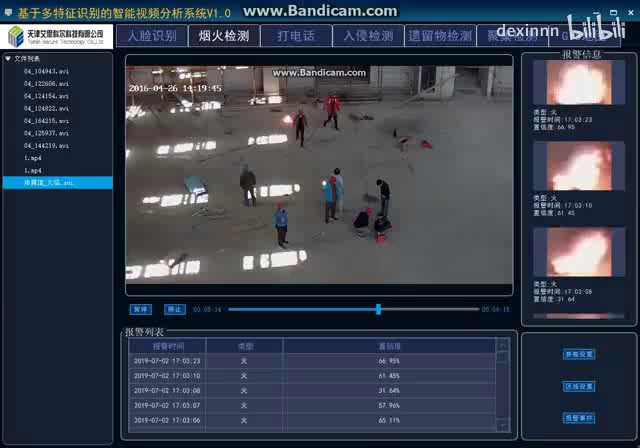fire: (279, 114, 298, 125)
